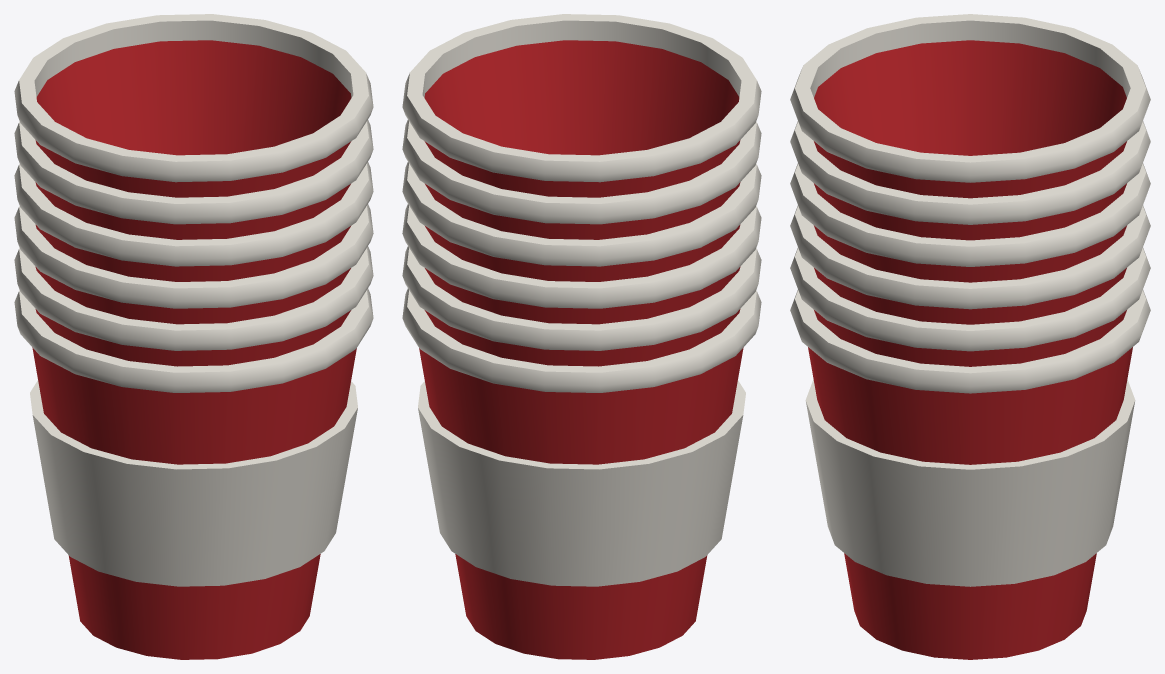
File: tub_stack.glb
3 views of the same model, side by side, from view 1: azimuth 30°, elevation 25°; view 2: azimuth 150°, elevation 25°; view 3: azimuth 270°, elevation 25° (orthographic).
Visible parts, largest first — view 1: Tub_LOD0, Label_LOD0, Rim_LOD0.005, Rim_LOD0.004, Rim_LOD0.002, Rim_LOD0.003, Rim_LOD0, Rim_LOD0.001; view 2: Tub_LOD0, Label_LOD0, Rim_LOD0.005, Rim_LOD0.004, Rim_LOD0.002, Rim_LOD0.003, Rim_LOD0, Rim_LOD0.001; view 3: Tub_LOD0, Label_LOD0, Rim_LOD0.005, Rim_LOD0, Rim_LOD0.002, Rim_LOD0.004, Rim_LOD0.003, Rim_LOD0.001.
Boxes of the visible parts, x1=… form: Tub_LOD0: x1=32, y1=40, x2=356, y2=659; Label_LOD0: x1=30, y1=380, x2=357, y2=586; Rim_LOD0.005: x1=14, y1=14, x2=373, y2=182; Rim_LOD0.004: x1=14, y1=120, x2=373, y2=224; Rim_LOD0.002: x1=14, y1=204, x2=373, y2=308; Rim_LOD0.003: x1=14, y1=162, x2=373, y2=266; Rim_LOD0: x1=14, y1=288, x2=373, y2=392; Rim_LOD0.001: x1=14, y1=246, x2=373, y2=350; Tub_LOD0: x1=419, y1=40, x2=743, y2=659; Label_LOD0: x1=418, y1=380, x2=745, y2=586; Rim_LOD0.005: x1=402, y1=14, x2=761, y2=182; Rim_LOD0.004: x1=402, y1=120, x2=761, y2=224; Rim_LOD0.002: x1=402, y1=204, x2=761, y2=308; Rim_LOD0.003: x1=402, y1=162, x2=761, y2=266; Rim_LOD0: x1=402, y1=288, x2=761, y2=392; Rim_LOD0.001: x1=402, y1=246, x2=761, y2=350; Tub_LOD0: x1=808, y1=40, x2=1132, y2=659; Label_LOD0: x1=805, y1=379, x2=1135, y2=586; Rim_LOD0.005: x1=790, y1=14, x2=1150, y2=182; Rim_LOD0: x1=790, y1=290, x2=1150, y2=393; Rim_LOD0.002: x1=790, y1=205, x2=1150, y2=309; Rim_LOD0.004: x1=790, y1=121, x2=1150, y2=224; Rim_LOD0.003: x1=790, y1=163, x2=1150, y2=266; Rim_LOD0.001: x1=790, y1=248, x2=1150, y2=351.
Bounding box in the file's own units: 0.2327 × 0.372 × 0.2327.
